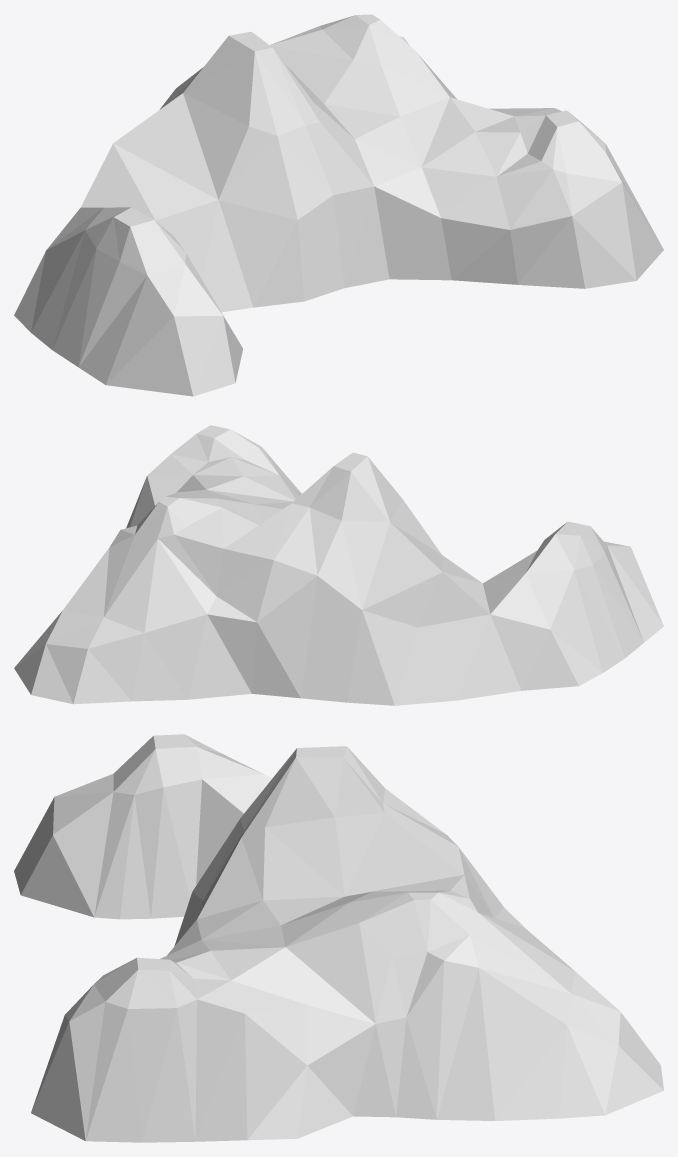
The model's file is SM_Env_Hills_01_02.obj.
3 renders of one model, top to bottom at view 1: azimuth 30°, elevation 25°; view 2: azimuth 150°, elevation 25°; view 3: azimuth 270°, elevation 25°, orthographic. The views are drawn at different scales.
Visible parts, largest first — view 1: SM_Env_Hills_01:Mesh; view 2: SM_Env_Hills_01:Mesh; view 3: SM_Env_Hills_01:Mesh.
Boxes of the visible parts, left/top/right/bottom form: SM_Env_Hills_01:Mesh: left=14, top=14, right=663, bottom=396; SM_Env_Hills_01:Mesh: left=14, top=425, right=663, bottom=705; SM_Env_Hills_01:Mesh: left=14, top=734, right=663, bottom=1142.
Bounding box in the file's own units: 31.77 × 11.01 × 28.8.
1 material, 1 textured.
